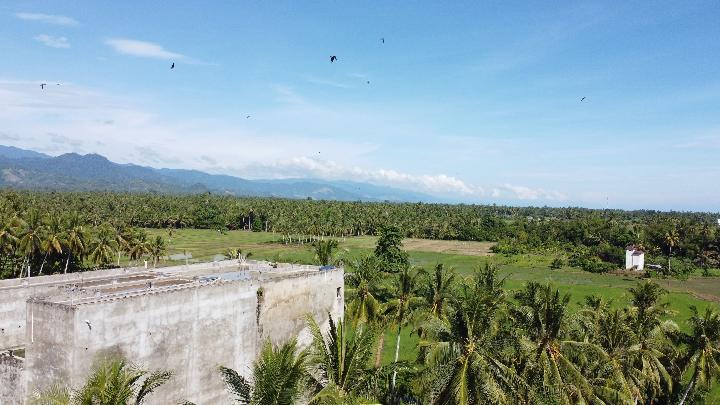walet: (329, 56, 337, 64), (580, 96, 586, 102), (40, 84, 46, 90), (170, 63, 174, 69), (381, 37, 385, 43)
